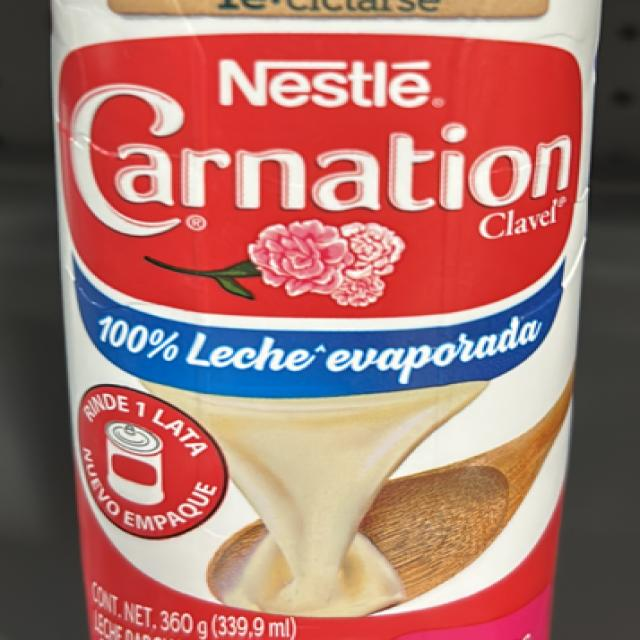nestleCarnation: (53, 5, 586, 640)
